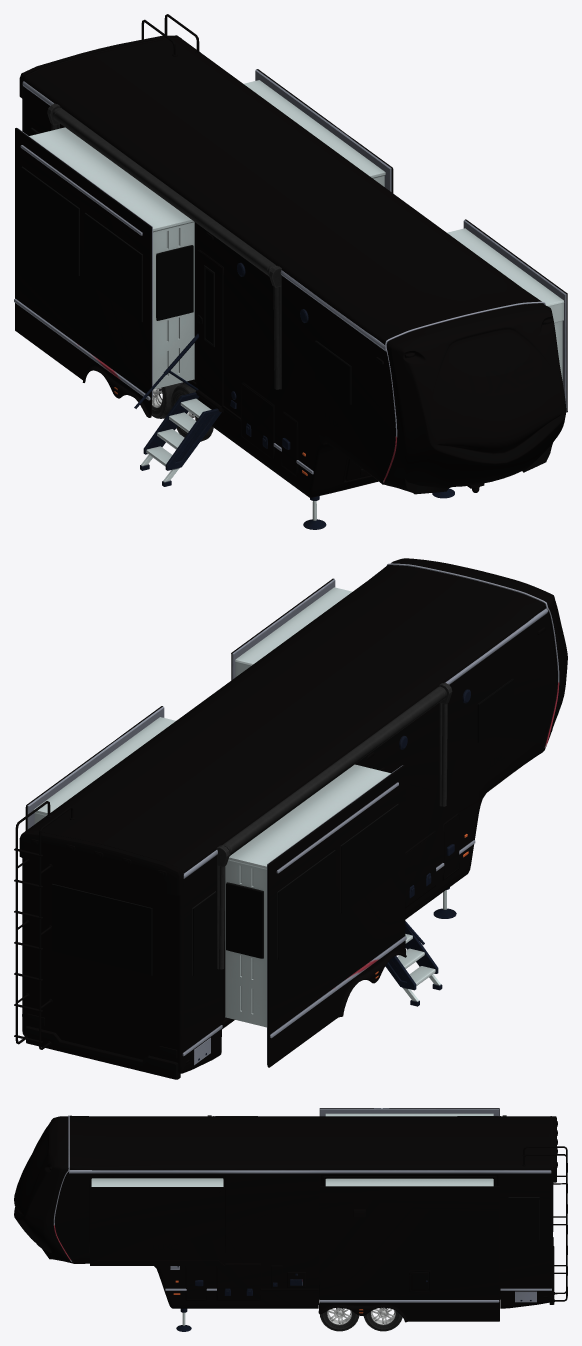
Rendered from elegante test.glb.
The picture shows the model from 3 angles, top to bottom: view 1: azimuth 30°, elevation 25°; view 2: azimuth 150°, elevation 25°; view 3: azimuth 270°, elevation 25°; orthographic projection. The views are drawn at different scales.
Visible parts, largest first — view 1: exterior_body, exterior_side_panel_back_right_slide, awning, exterior_side_panel_front_left_slide, exterior_side_panel_back_left_slide, Side_small_stair; view 2: exterior_body, exterior_side_panel_back_right_slide, awning, exterior_side_panel_back_left_slide, exterior_side_panel_front_left_slide, Side_small_stair; view 3: exterior_body, exterior_side_panel_back_left_slide, exterior_side_panel_front_left_slide, exterior_side_panel_back_right_slide, wheels1, wheels2.
Boxes of the visible parts, x1,y1,x2,y2 form: exterior_body: (19, 14, 566, 497); exterior_side_panel_back_right_slide: (14, 127, 194, 417); awning: (47, 103, 281, 389); exterior_side_panel_front_left_slide: (447, 219, 567, 412); exterior_side_panel_back_left_slide: (244, 69, 393, 193); Side_small_stair: (140, 392, 221, 486); exterior_body: (14, 558, 567, 1079); exterior_side_panel_back_right_slide: (225, 764, 406, 1067); awning: (216, 682, 452, 969); exterior_side_panel_back_left_slide: (25, 706, 175, 830); exterior_side_panel_front_left_slide: (231, 578, 352, 680); Side_small_stair: (385, 925, 442, 1006); exterior_body: (14, 1115, 567, 1308); exterior_side_panel_back_left_slide: (318, 1178, 499, 1322); exterior_side_panel_front_left_slide: (90, 1178, 225, 1265); exterior_side_panel_back_right_slide: (319, 1108, 499, 1116); wheels1: (319, 1307, 359, 1331); wheels2: (363, 1307, 402, 1331).
Size of the model in its own units: 4.32 by 4.19 by 11.81.
23 materials, 13 textured.
